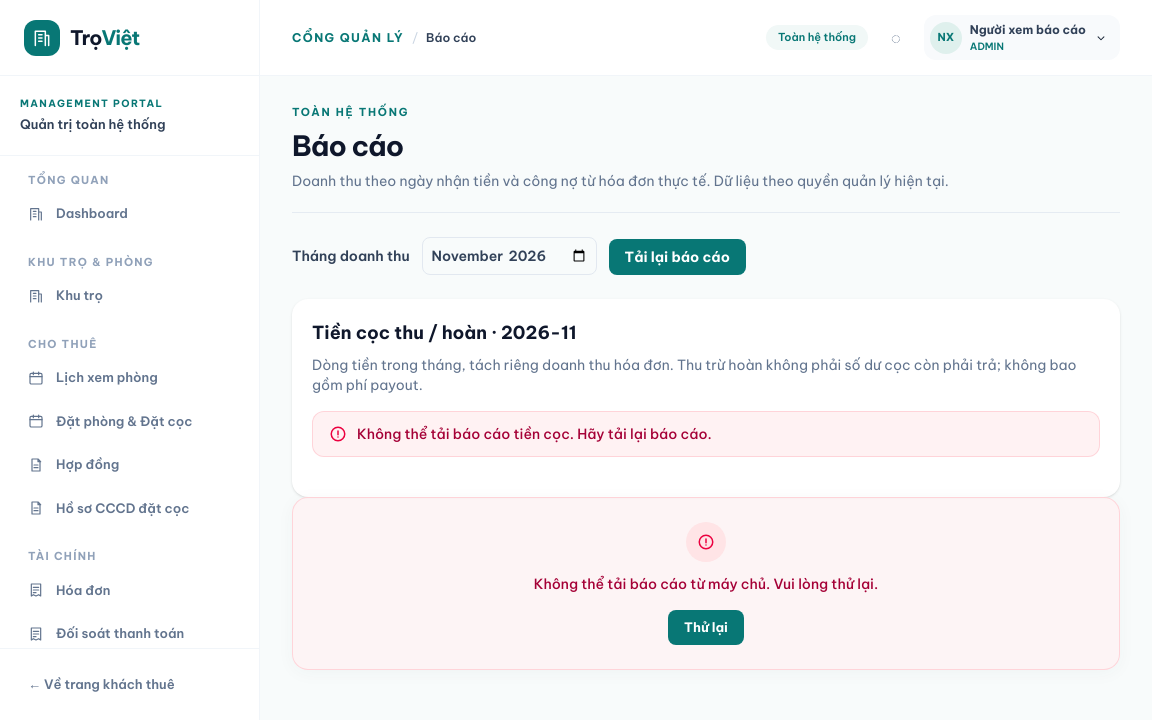
Test: management financial reports › shows request errors and reloads both reports
Expected: the text "Không thể tải báo cáo từ máy chủ. Vui lòng thử lại." is shown, [534,574,878,592]
Expected: the text "Doanh thu tháng" is not shown
Click the button "Tải lại báo cáo" at (677, 256), box [608,238,746,274]
(page scrolled)
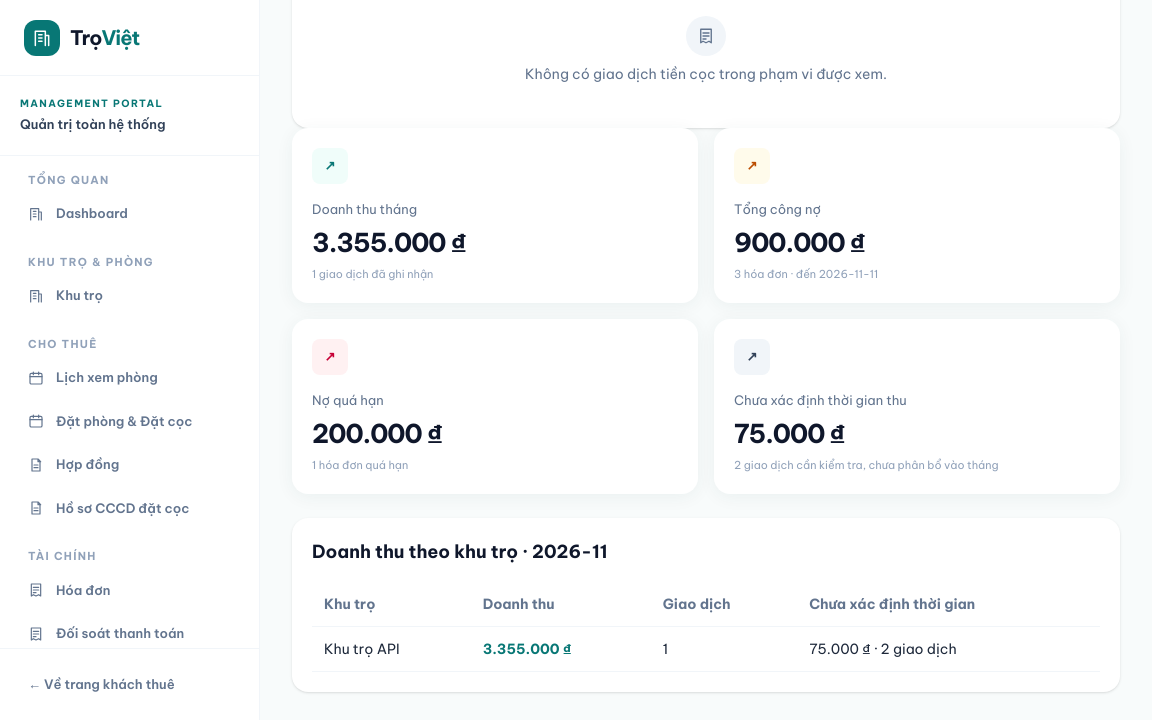
Result: the text "Khu trọ API" is shown at [312,626,471,671]
